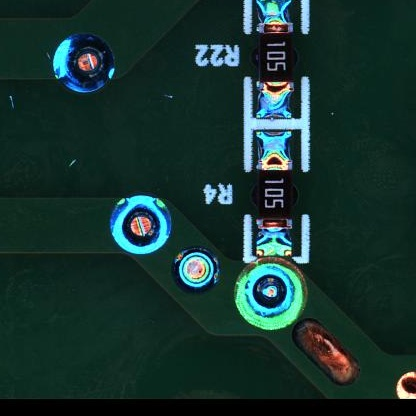spot: (235, 257, 309, 329), (110, 194, 172, 255), (54, 33, 115, 92), (173, 249, 218, 290)
